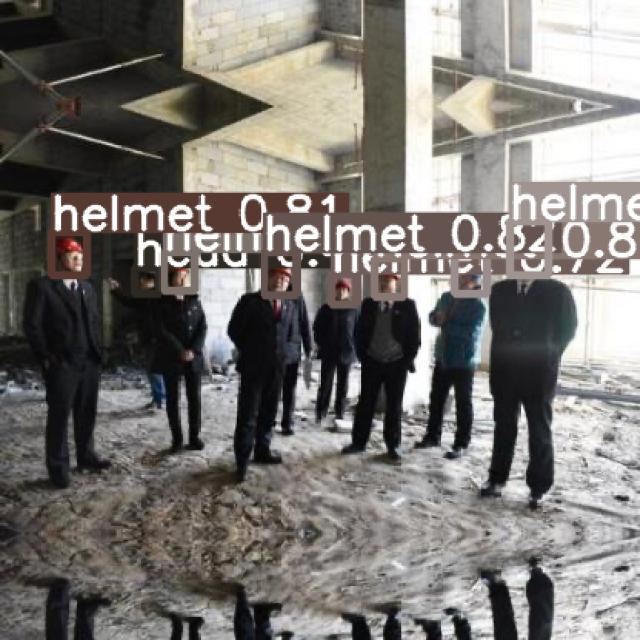red helmet: (57, 239, 87, 257)
